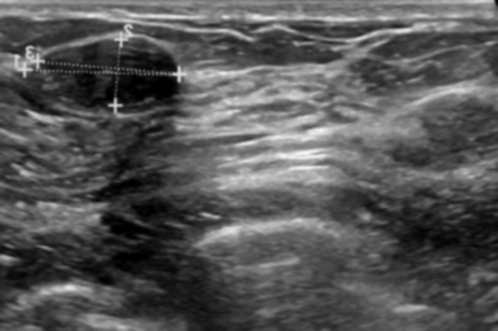Benign: (45, 33, 180, 109)
